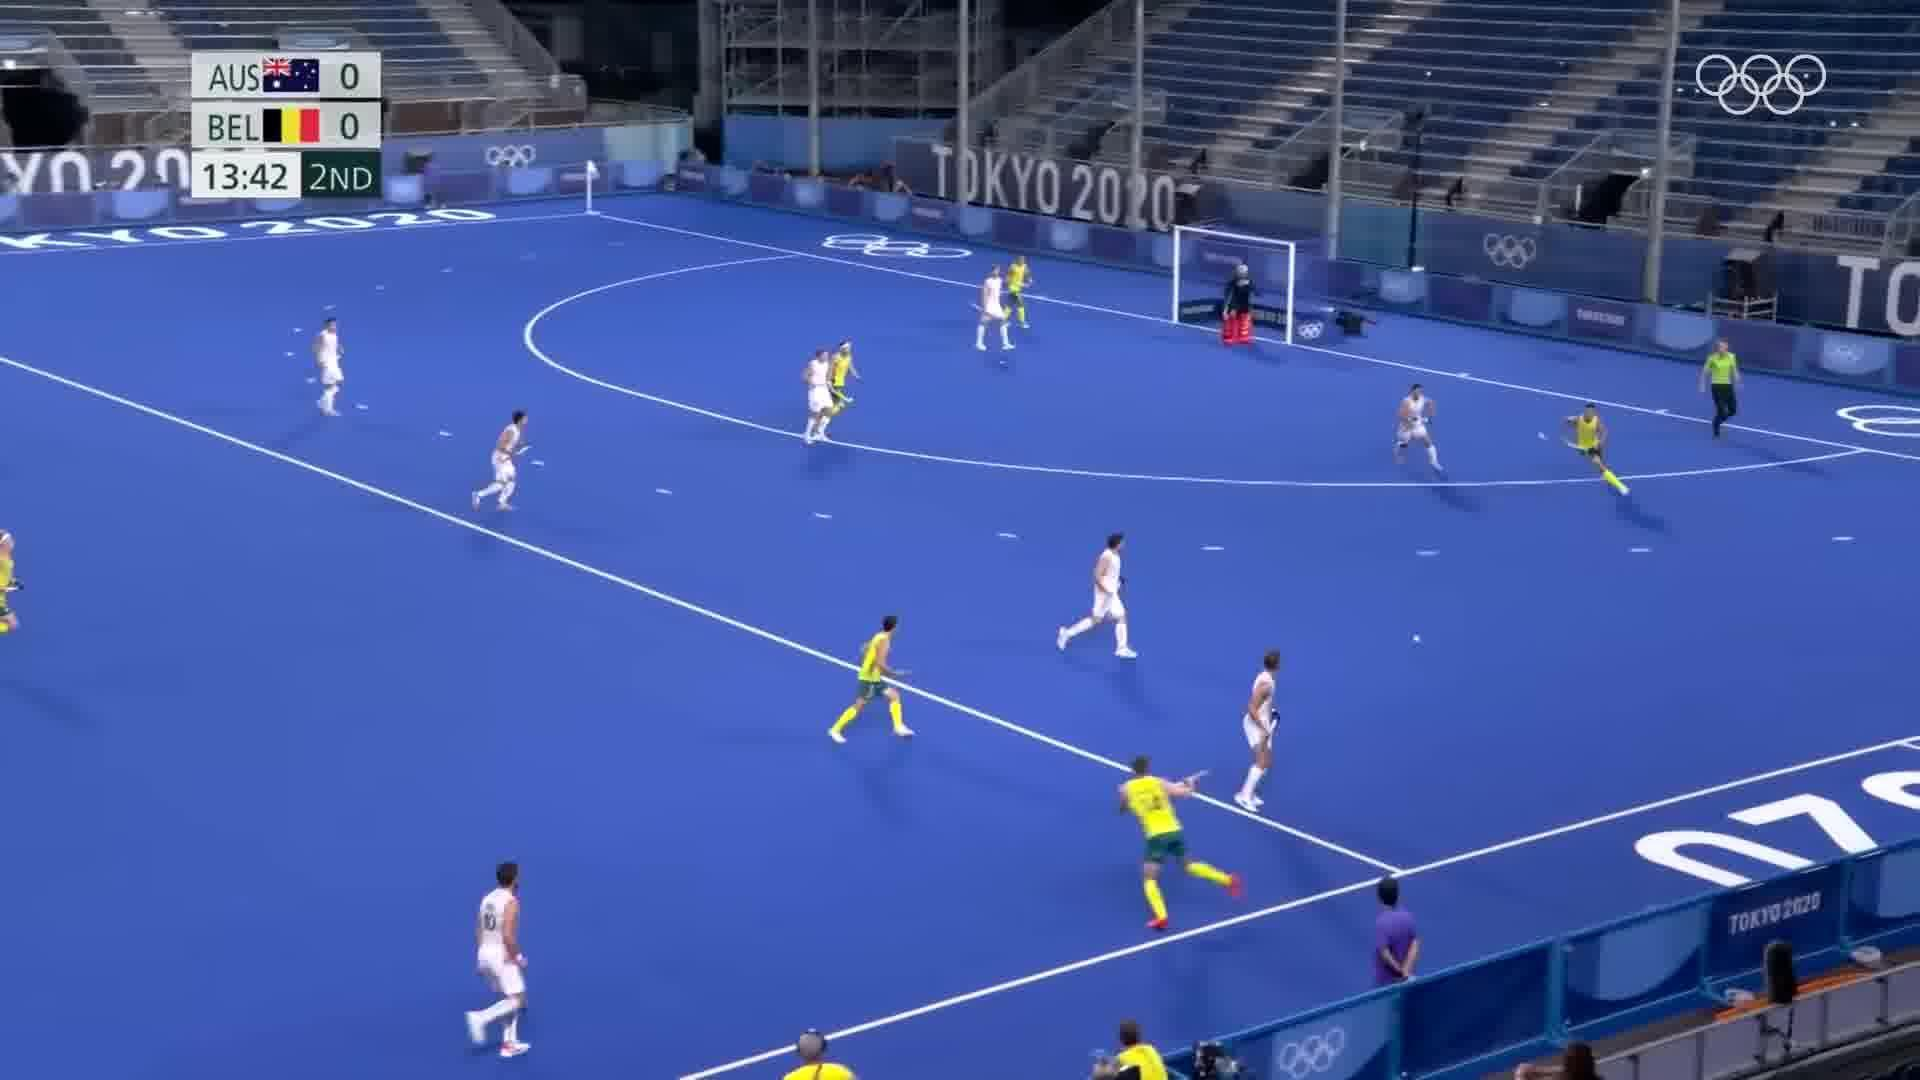ball: (1400, 628, 1433, 651)
